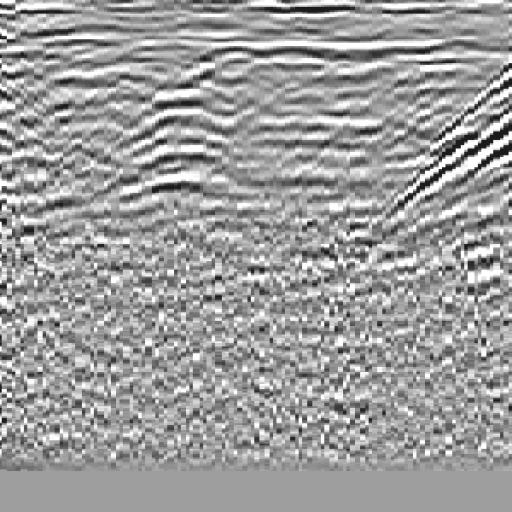metalic: (107, 46, 312, 271)
nonmetalic: (384, 55, 512, 273)
